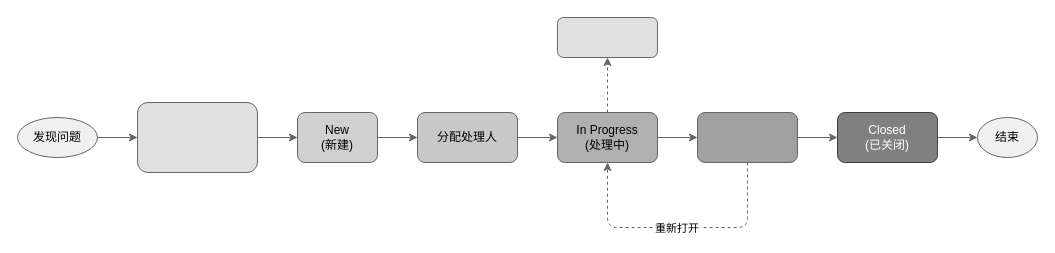
Some shapes in this 1055 by 253 pixel diagram are drawn without their labels. Here are the shapes that lost their labels. From the top down, the centre of each, then its label:
At point (607, 37): "添加附件/评论".
At point (197, 137): "创建Issue (类型/优先级/严重程度)".
At point (747, 137): "Resolved (已解决)".
